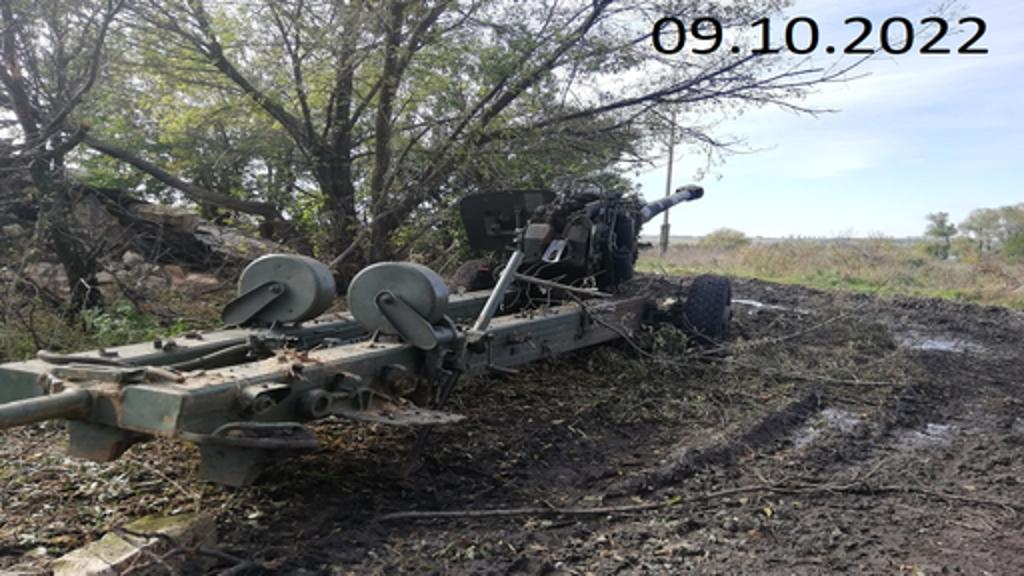ART: (0, 170, 734, 468)
